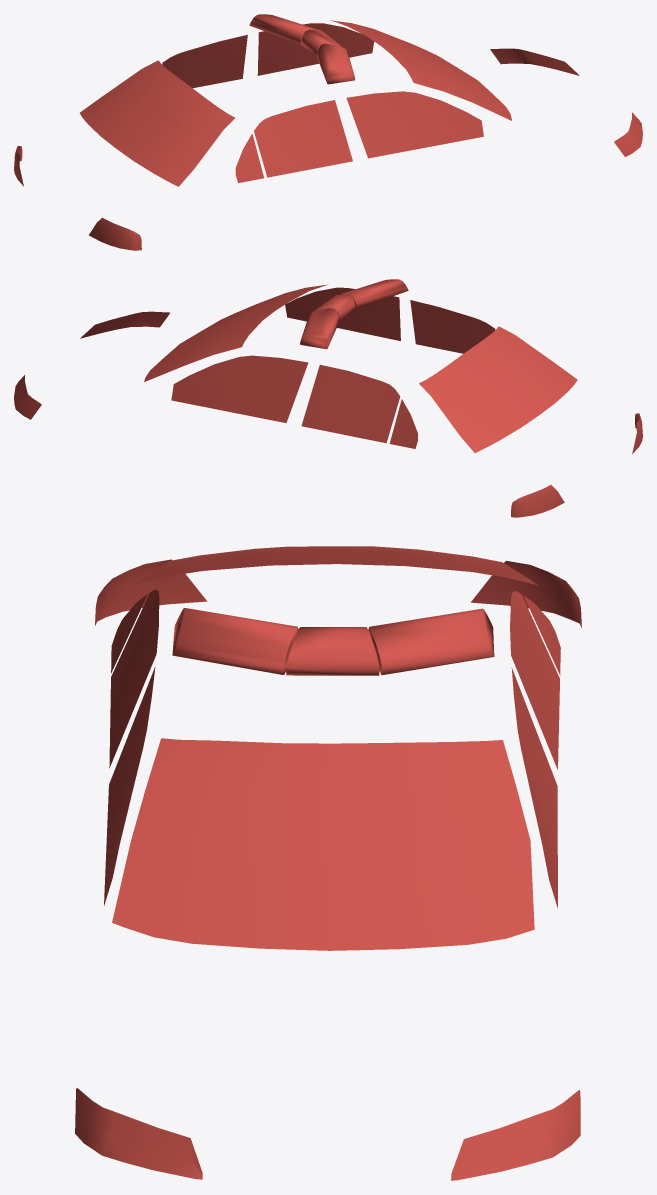
The model's file is car_Glass_LOD0.fbx.
3 renders of one model, top to bottom at view 1: azimuth 30°, elevation 25°; view 2: azimuth 150°, elevation 25°; view 3: azimuth 270°, elevation 25°, orthographic. The views are drawn at different scales.
Parts seen in each view (by area): view 1: Car_LP_LOD0.002; view 2: Car_LP_LOD0.002; view 3: Car_LP_LOD0.002.
Boxes of the visible parts, x1,y1,x2,y2 form: Car_LP_LOD0.002: (14, 14, 642, 250); Car_LP_LOD0.002: (14, 279, 642, 517); Car_LP_LOD0.002: (75, 546, 581, 1180).
Size of the model in its own units: 466 by 107 by 185.
